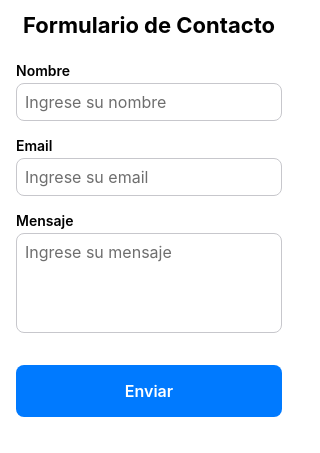
it: Form Component › Validation › shows error when message is too short
The width and height of the screenshot is (320, 453).
In the field with test id "name-input": [149, 102] box [16, 83, 282, 121], type "John Doe"
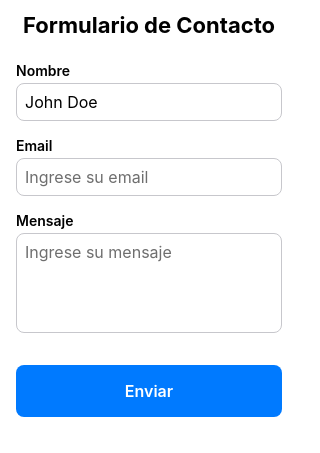
In the field with test id "email-input": [149, 177] box [16, 158, 282, 196], type "john@example.com"
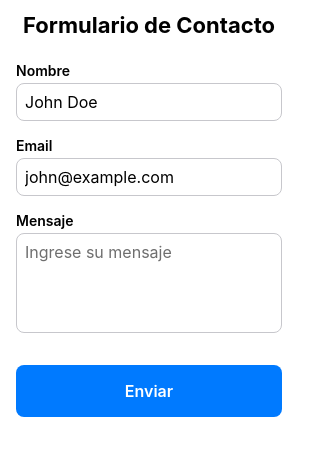
In the text box with test id "message-input": [149, 283] box [16, 233, 282, 333], type "Short"
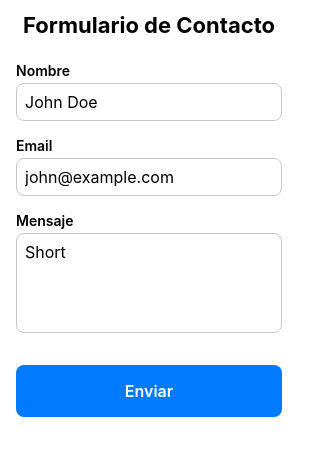
Click the element with test id "submit-button": [149, 391] box [16, 365, 282, 417]
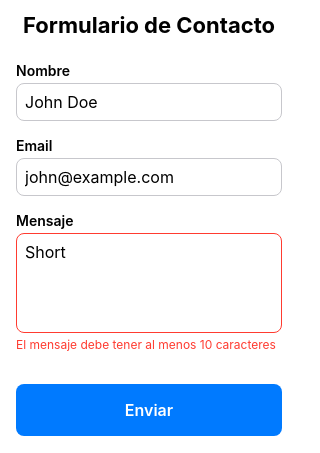
Expected: the text with test id "message-error" reads "El mensaje debe tener al menos 10 caracteres", [16, 337, 276, 352]
